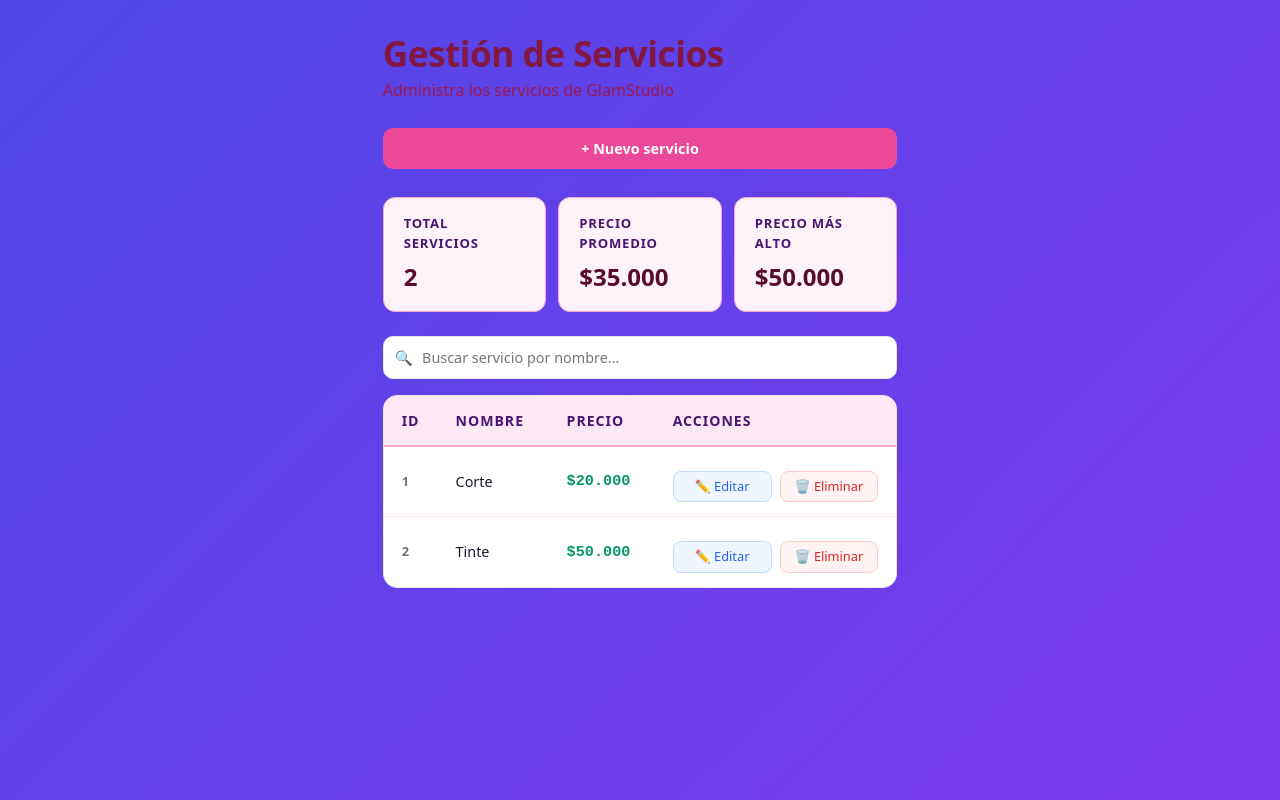
GestionServicios › muestra error si nombre o precio están vacíos
Step 1. Click the button "+ Nuevo servicio" → click(640, 149), box [383,128,897,169]
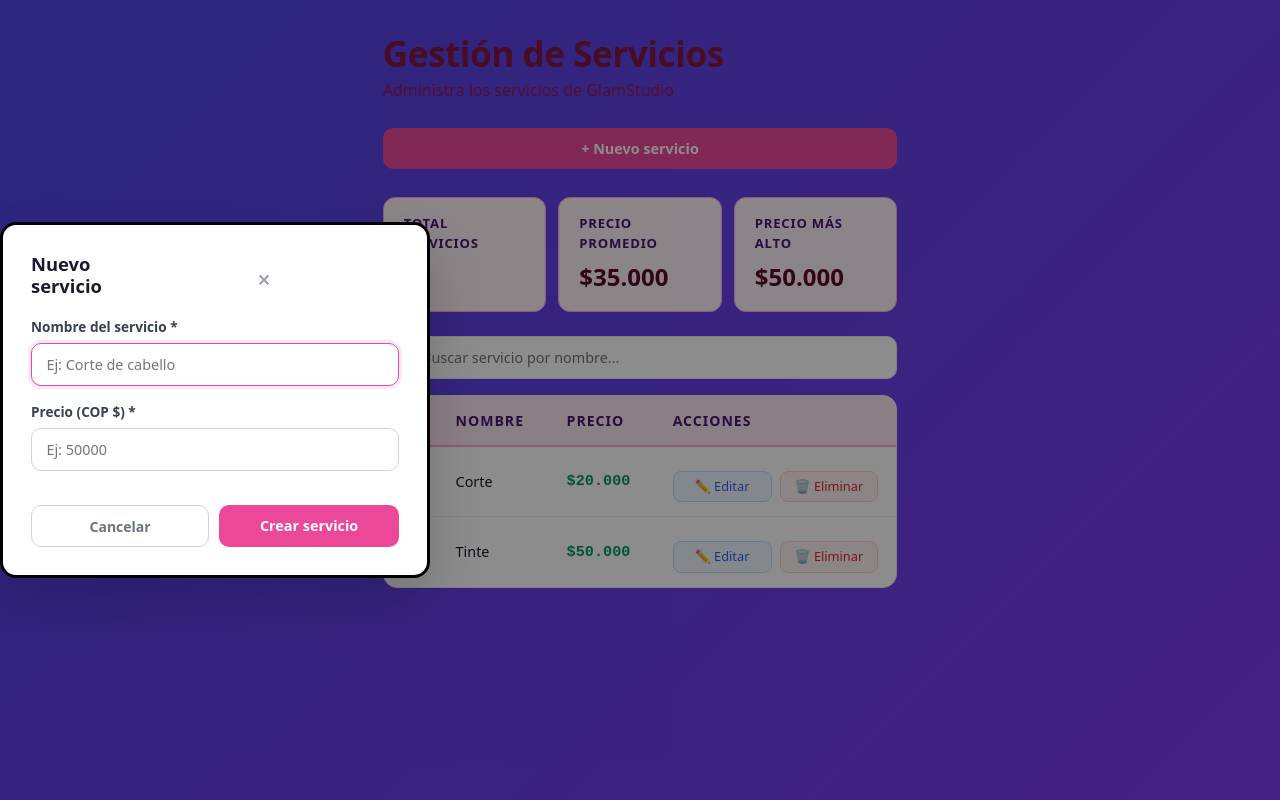
Step 2. Click the button "Crear servicio" → click(309, 526), box [219,505,399,547]
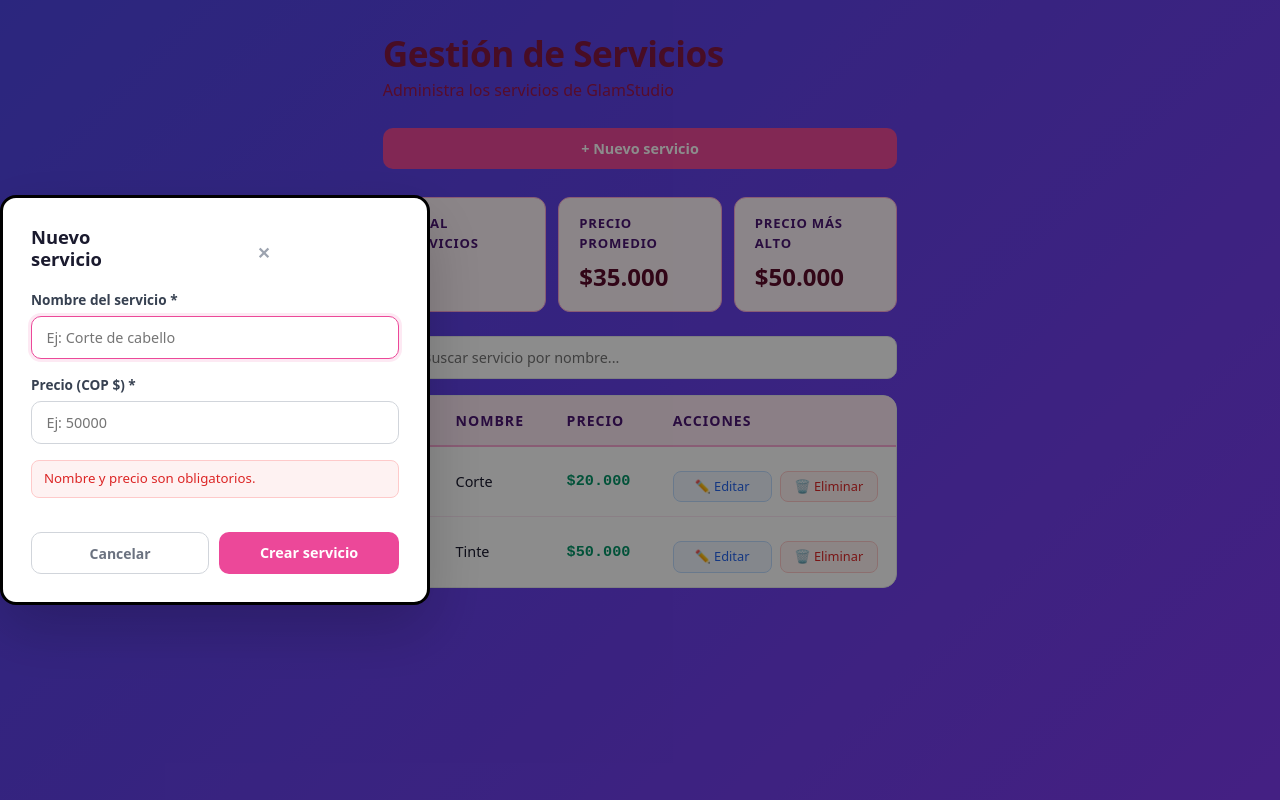
Expected: the text "Nombre y precio son obligatorios." is shown, [31,460,399,498]
